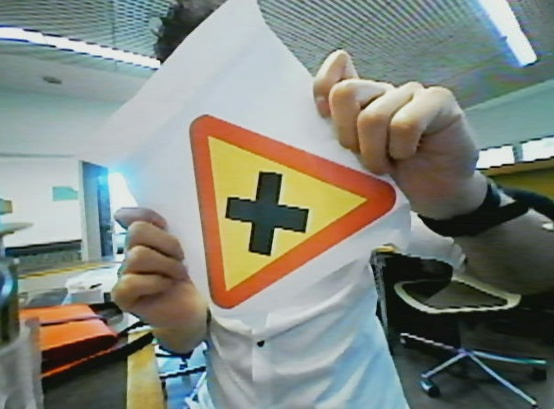junction: (186, 117, 400, 307)
